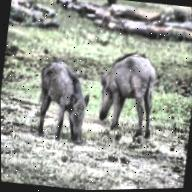boar: (16, 51, 96, 150), (92, 46, 165, 145)
